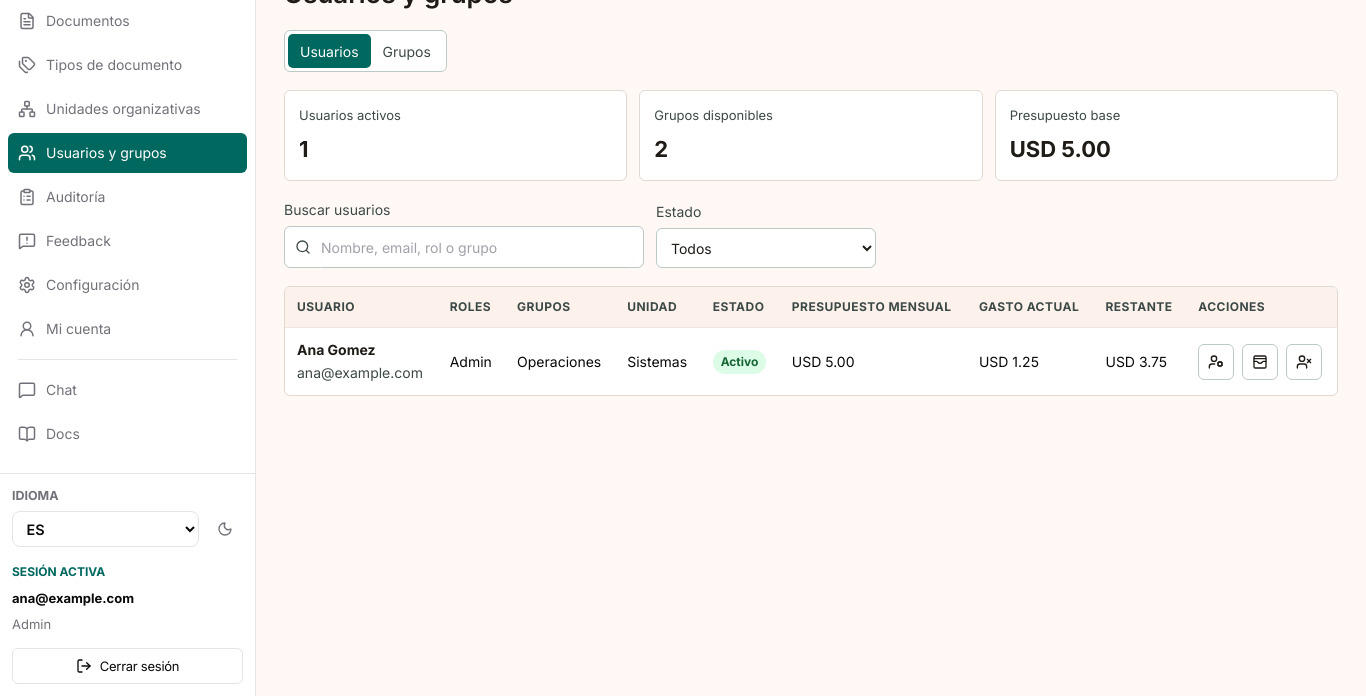
management documents › shows publish instead of send to review for admins when a document is in review
The image size is (1366, 696).
Click the link "Documentos" at (74, 21), box [18,12,130,30]
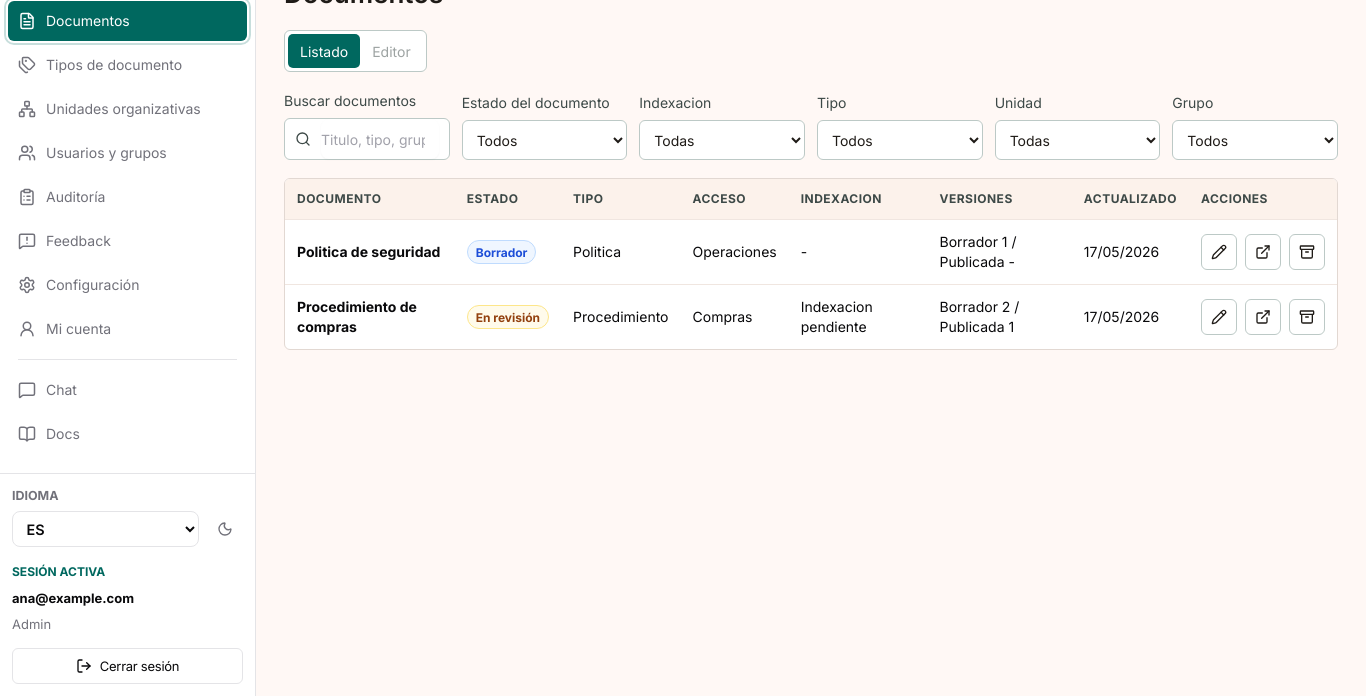
Click the button named "Editar Procedimiento de compras" at (1219, 317), box [1201,299,1237,335]
(page scrolled)
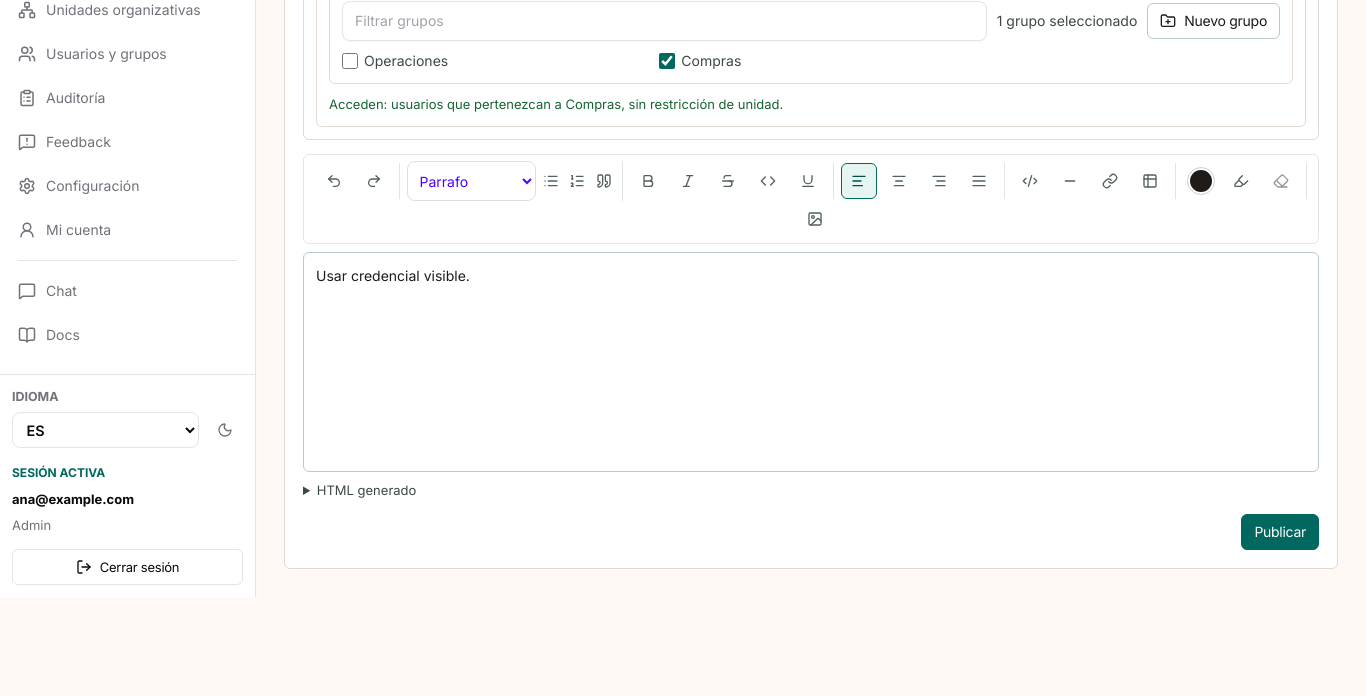
Expected: the button "Publicar" is shown
Click the button "Publicar" at (1280, 532), box [1241,514,1319,550]
(page scrolled)
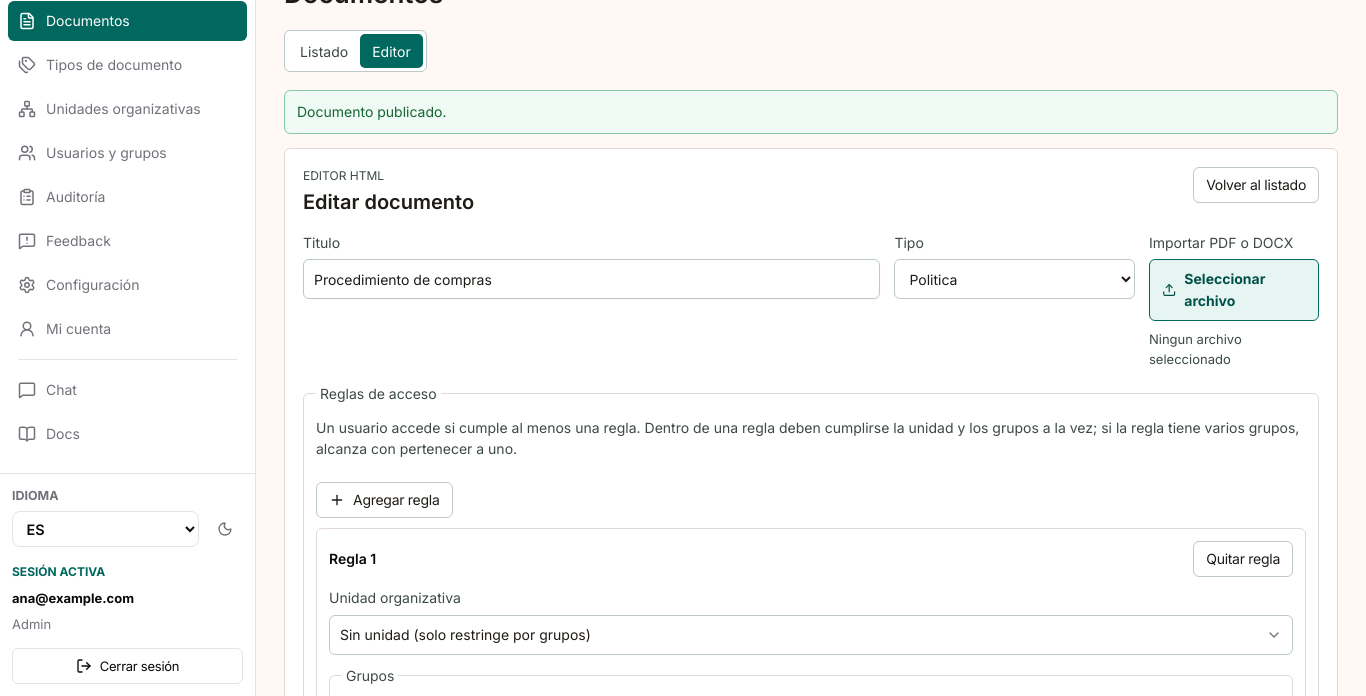
Expected: the text "Documento publicado." is shown, [284,90,1338,134]
